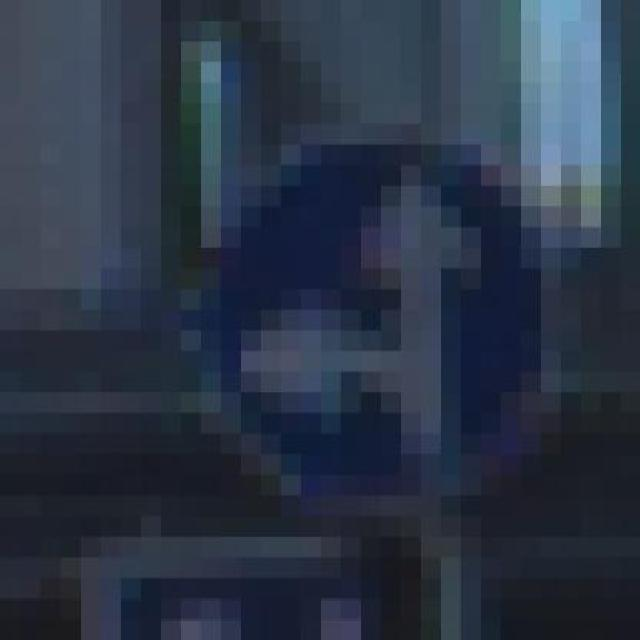Go straight or turn left: (160, 103, 580, 537)
